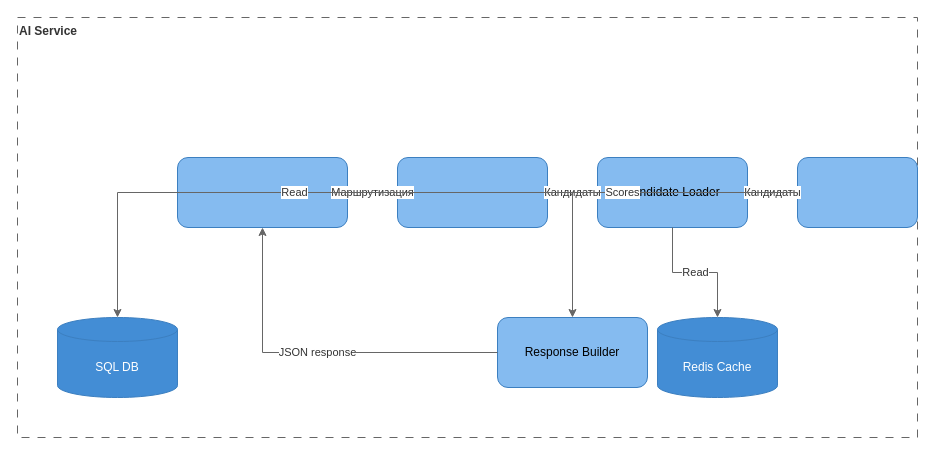
Image size: 935x455. Some labels were removed from this diagram. The centre of each missing label's shape, as x and y in pixels:
"Ranker" goes at [857,192].
"Recommendation Controller REST API" goes at [262,192].
"Scenario Router" goes at [472,192].
